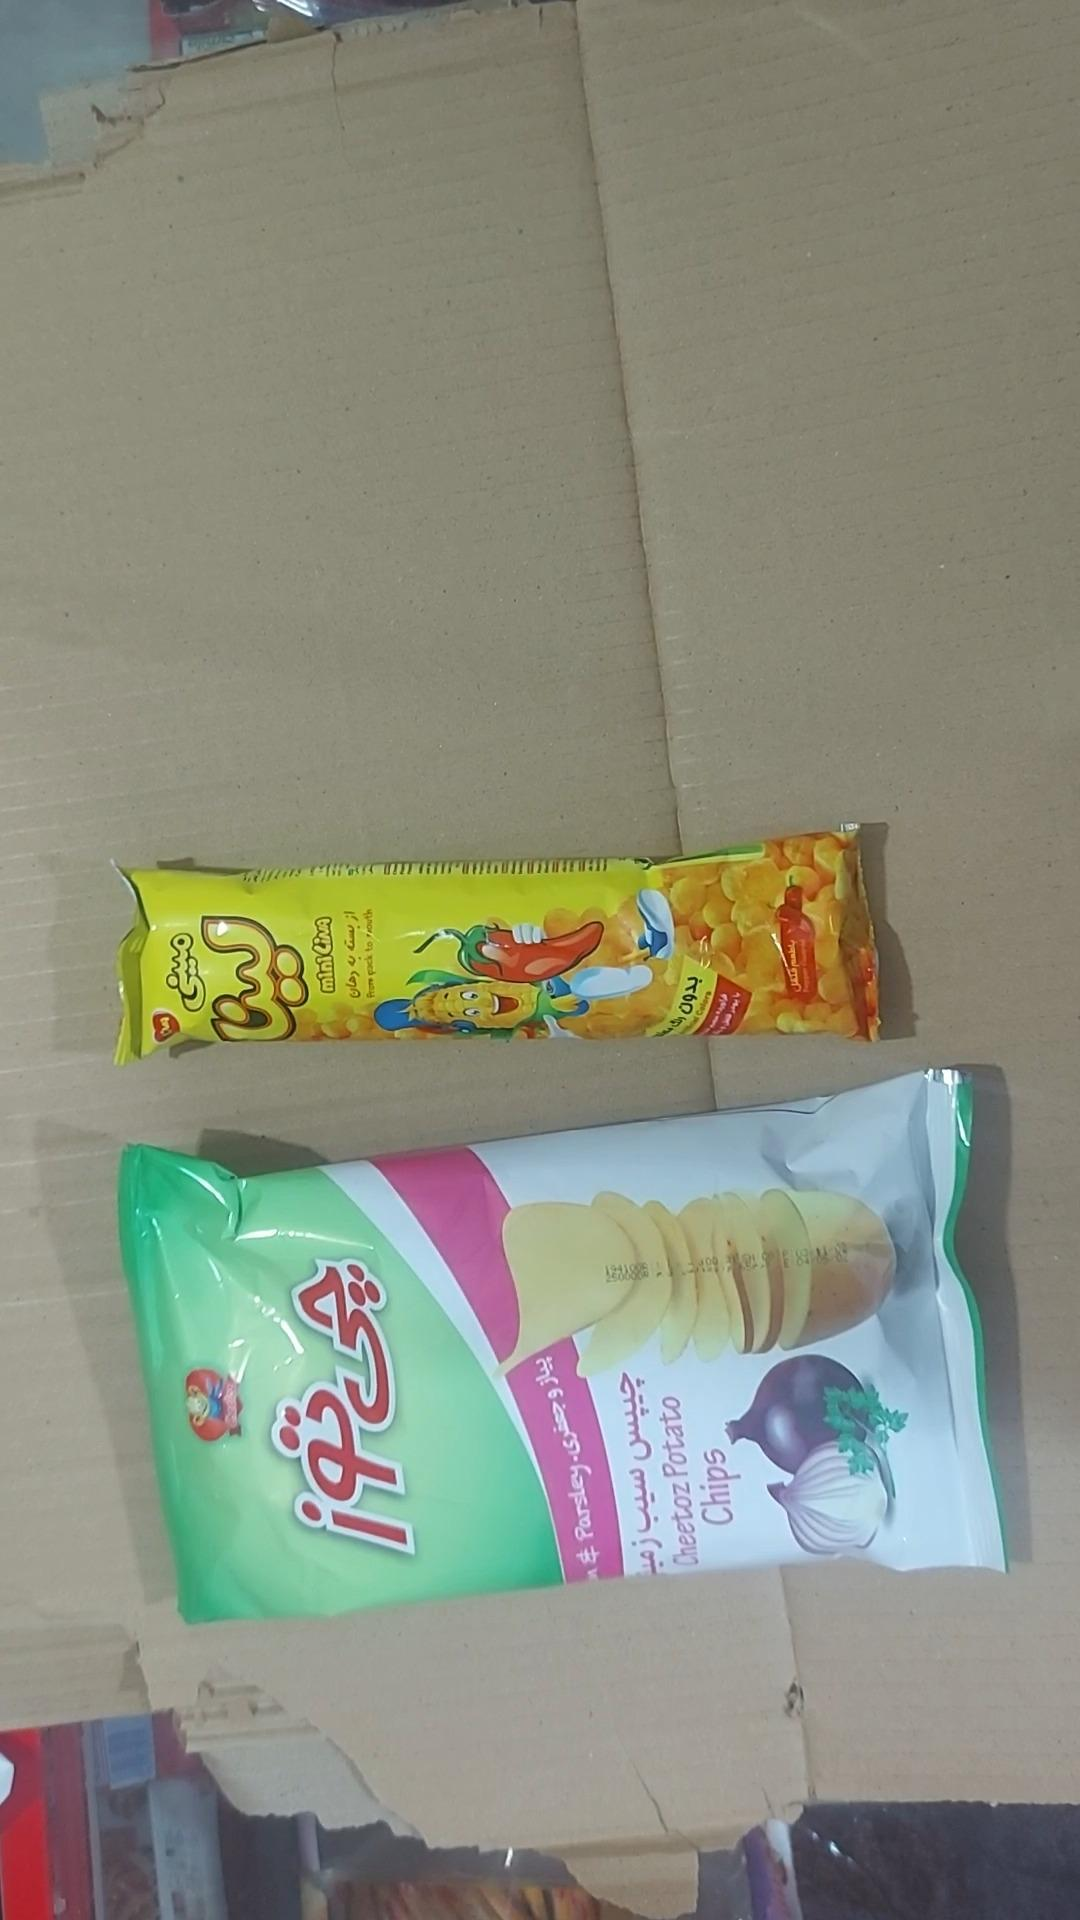Cheetoz onion and parsley chips: (119, 1071, 1010, 1623)
Mini Lina: (116, 827, 880, 1063)
